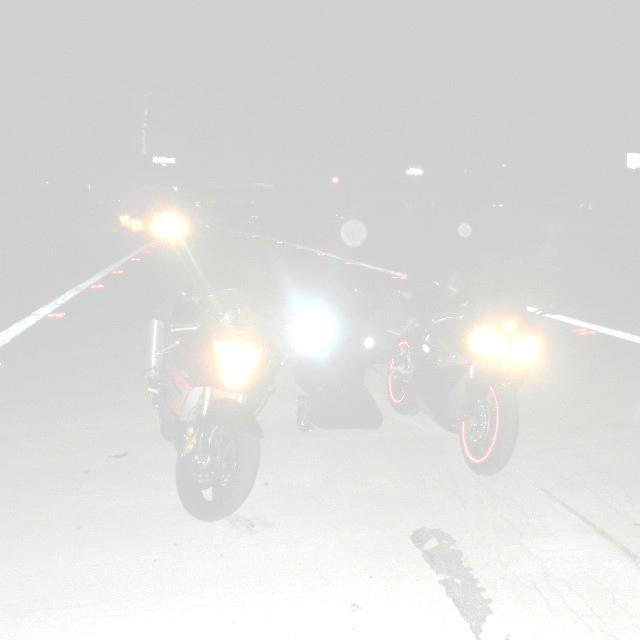Motorbike: (141, 263, 289, 522), (390, 292, 538, 479)
